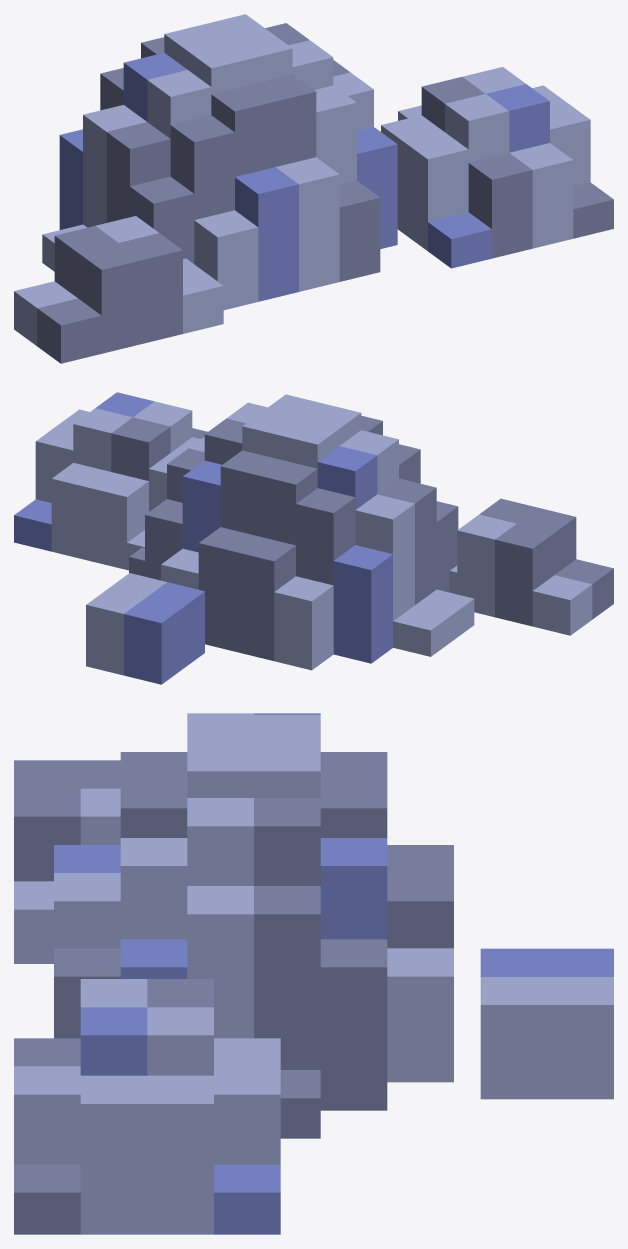
File: BeachBoulders.glb
3 renders of one model, top to bottom at view 1: azimuth 30°, elevation 25°; view 2: azimuth 150°, elevation 25°; view 3: azimuth 270°, elevation 25°, orthographic. The views are drawn at different scales.
Visible parts, largest first — view 1: BeachBoulders; view 2: BeachBoulders; view 3: BeachBoulders.
Part boxes in pixels (left/top/right/bottom): BeachBoulders: left=14, top=14, right=613, bottom=363; BeachBoulders: left=14, top=392, right=613, bottom=684; BeachBoulders: left=14, top=713, right=613, bottom=1234.
Bounding box in the file's own units: 13.6 × 4.68 × 9.
1 material, 1 textured.
